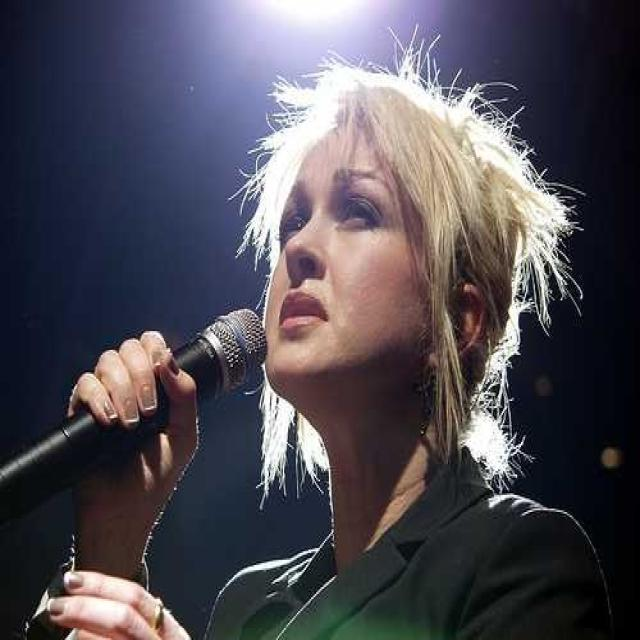microphone: (2, 303, 268, 533)
